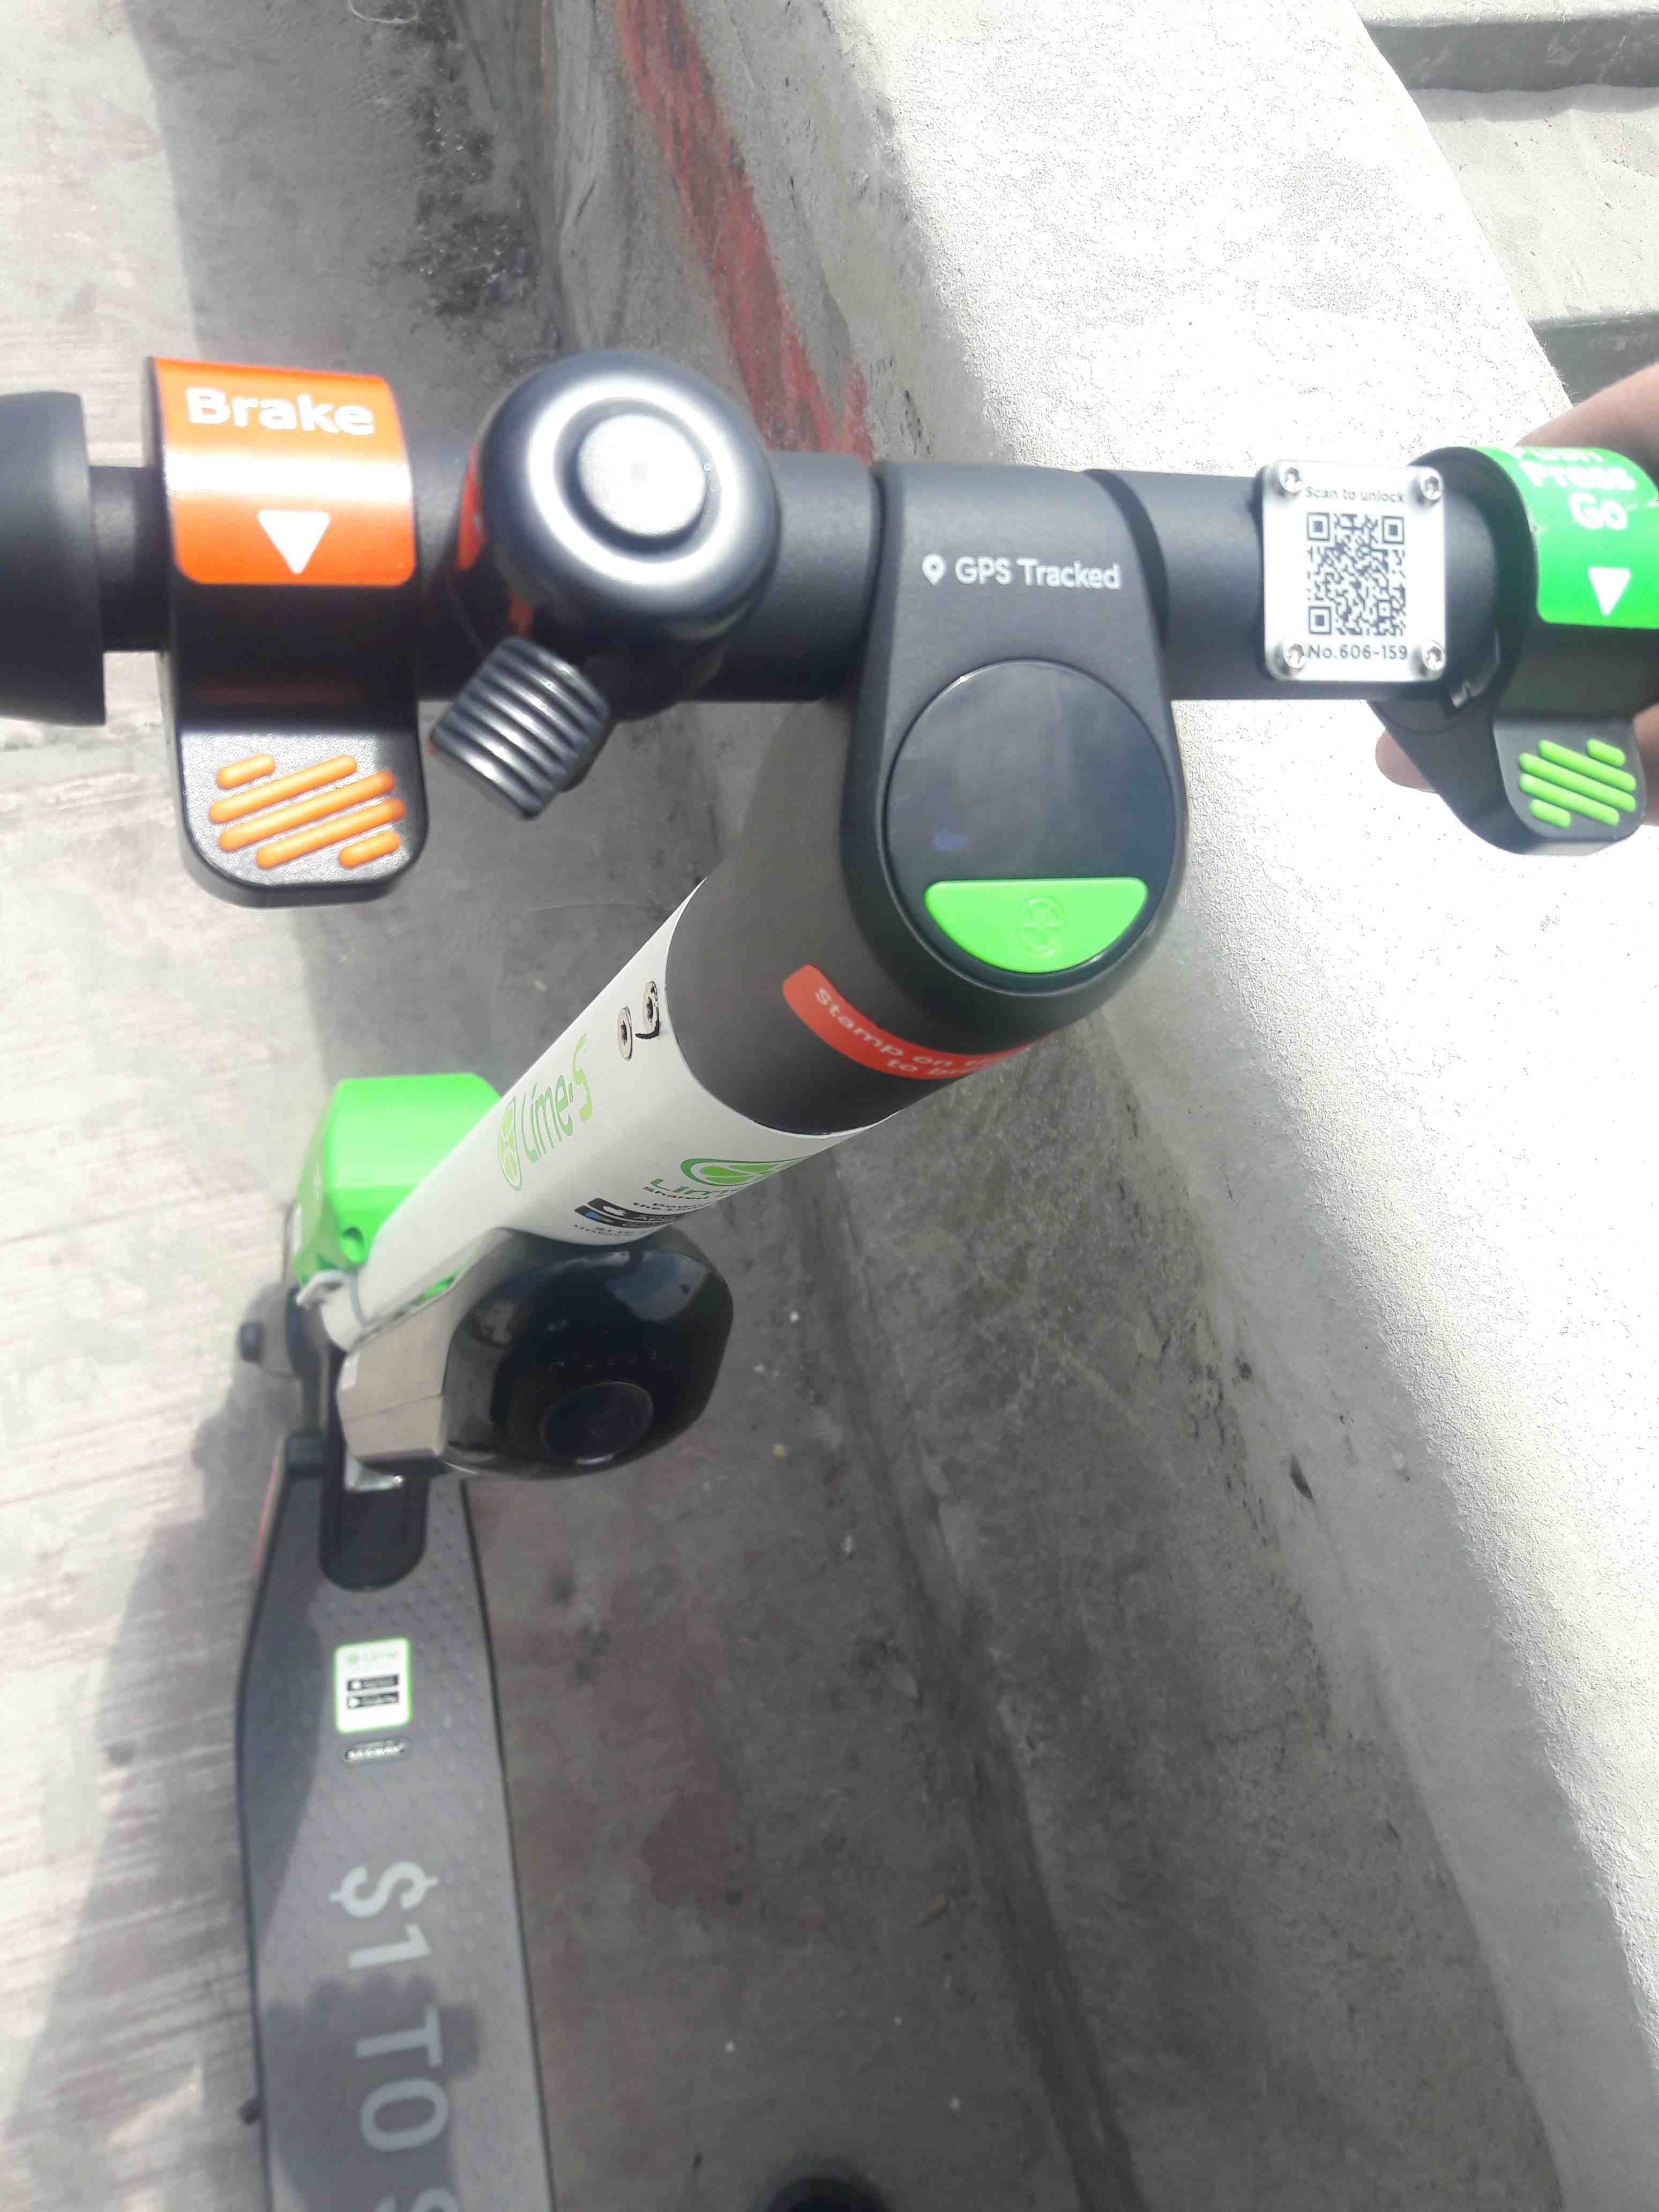scooter: (16, 28, 1615, 2212)
